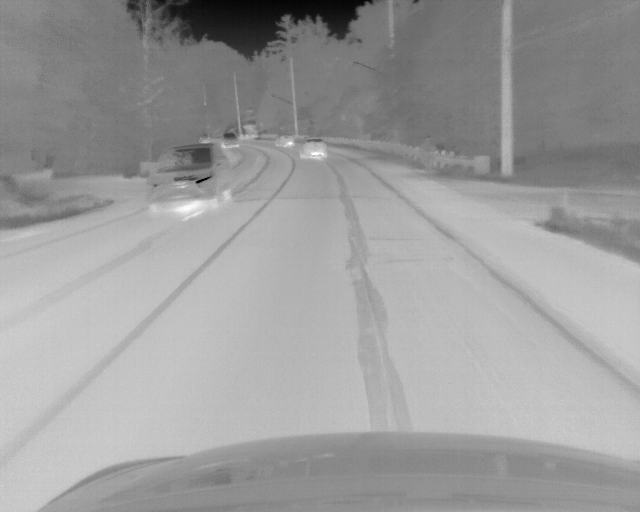car: (141, 142, 232, 212), (300, 138, 327, 160), (276, 135, 294, 148)
